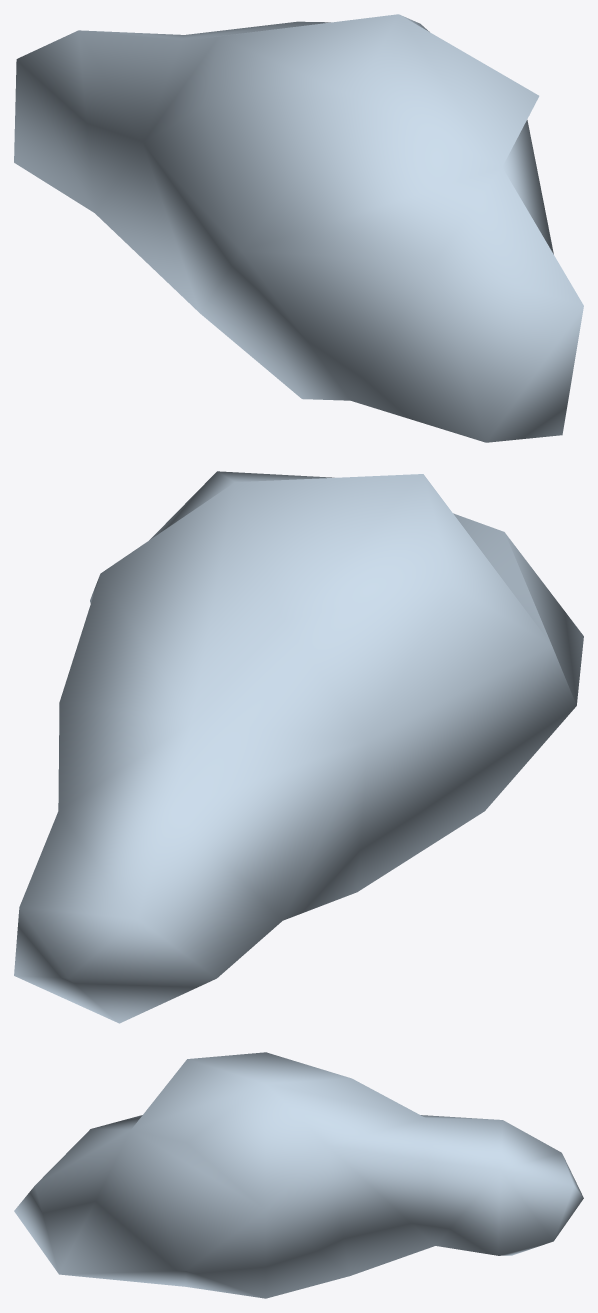
The model's file is Nuvem 03.fbx.
The picture shows the model from 3 angles, top to bottom: view 1: azimuth 30°, elevation 25°; view 2: azimuth 150°, elevation 25°; view 3: azimuth 270°, elevation 25°; orthographic projection. The views are drawn at different scales.
Parts seen in each view (by area): view 1: Sphere.009; view 2: Sphere.009; view 3: Sphere.009.
Boxes of the visible parts, left/top/right/bottom form: Sphere.009: left=14, top=14, right=583, bottom=442; Sphere.009: left=14, top=471, right=583, bottom=1023; Sphere.009: left=14, top=1052, right=583, bottom=1298.
Bounding box in the file's own units: 114 × 101 × 256.
